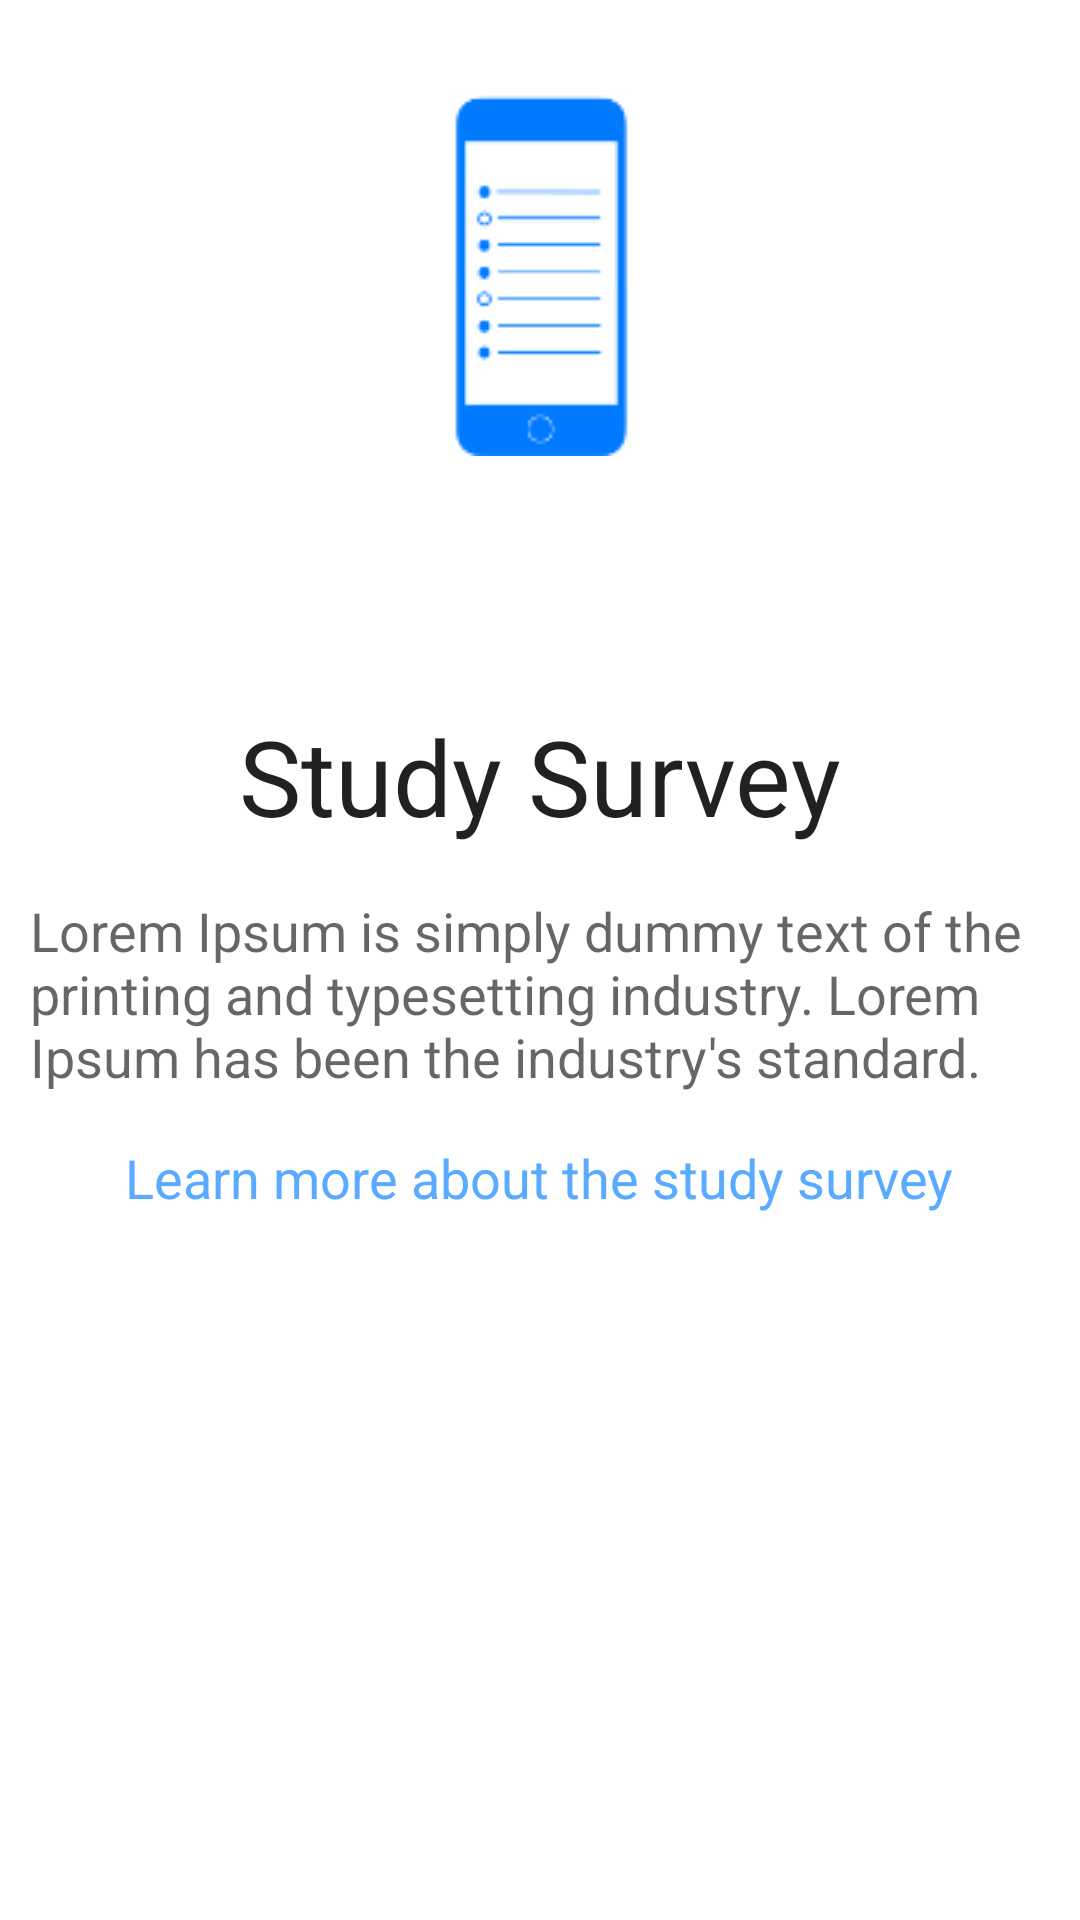

Icons on this 1080px×1920px Android screen, each with its box as (x1, y1, x2, y2):
studysurvey: (455, 96, 628, 456)
